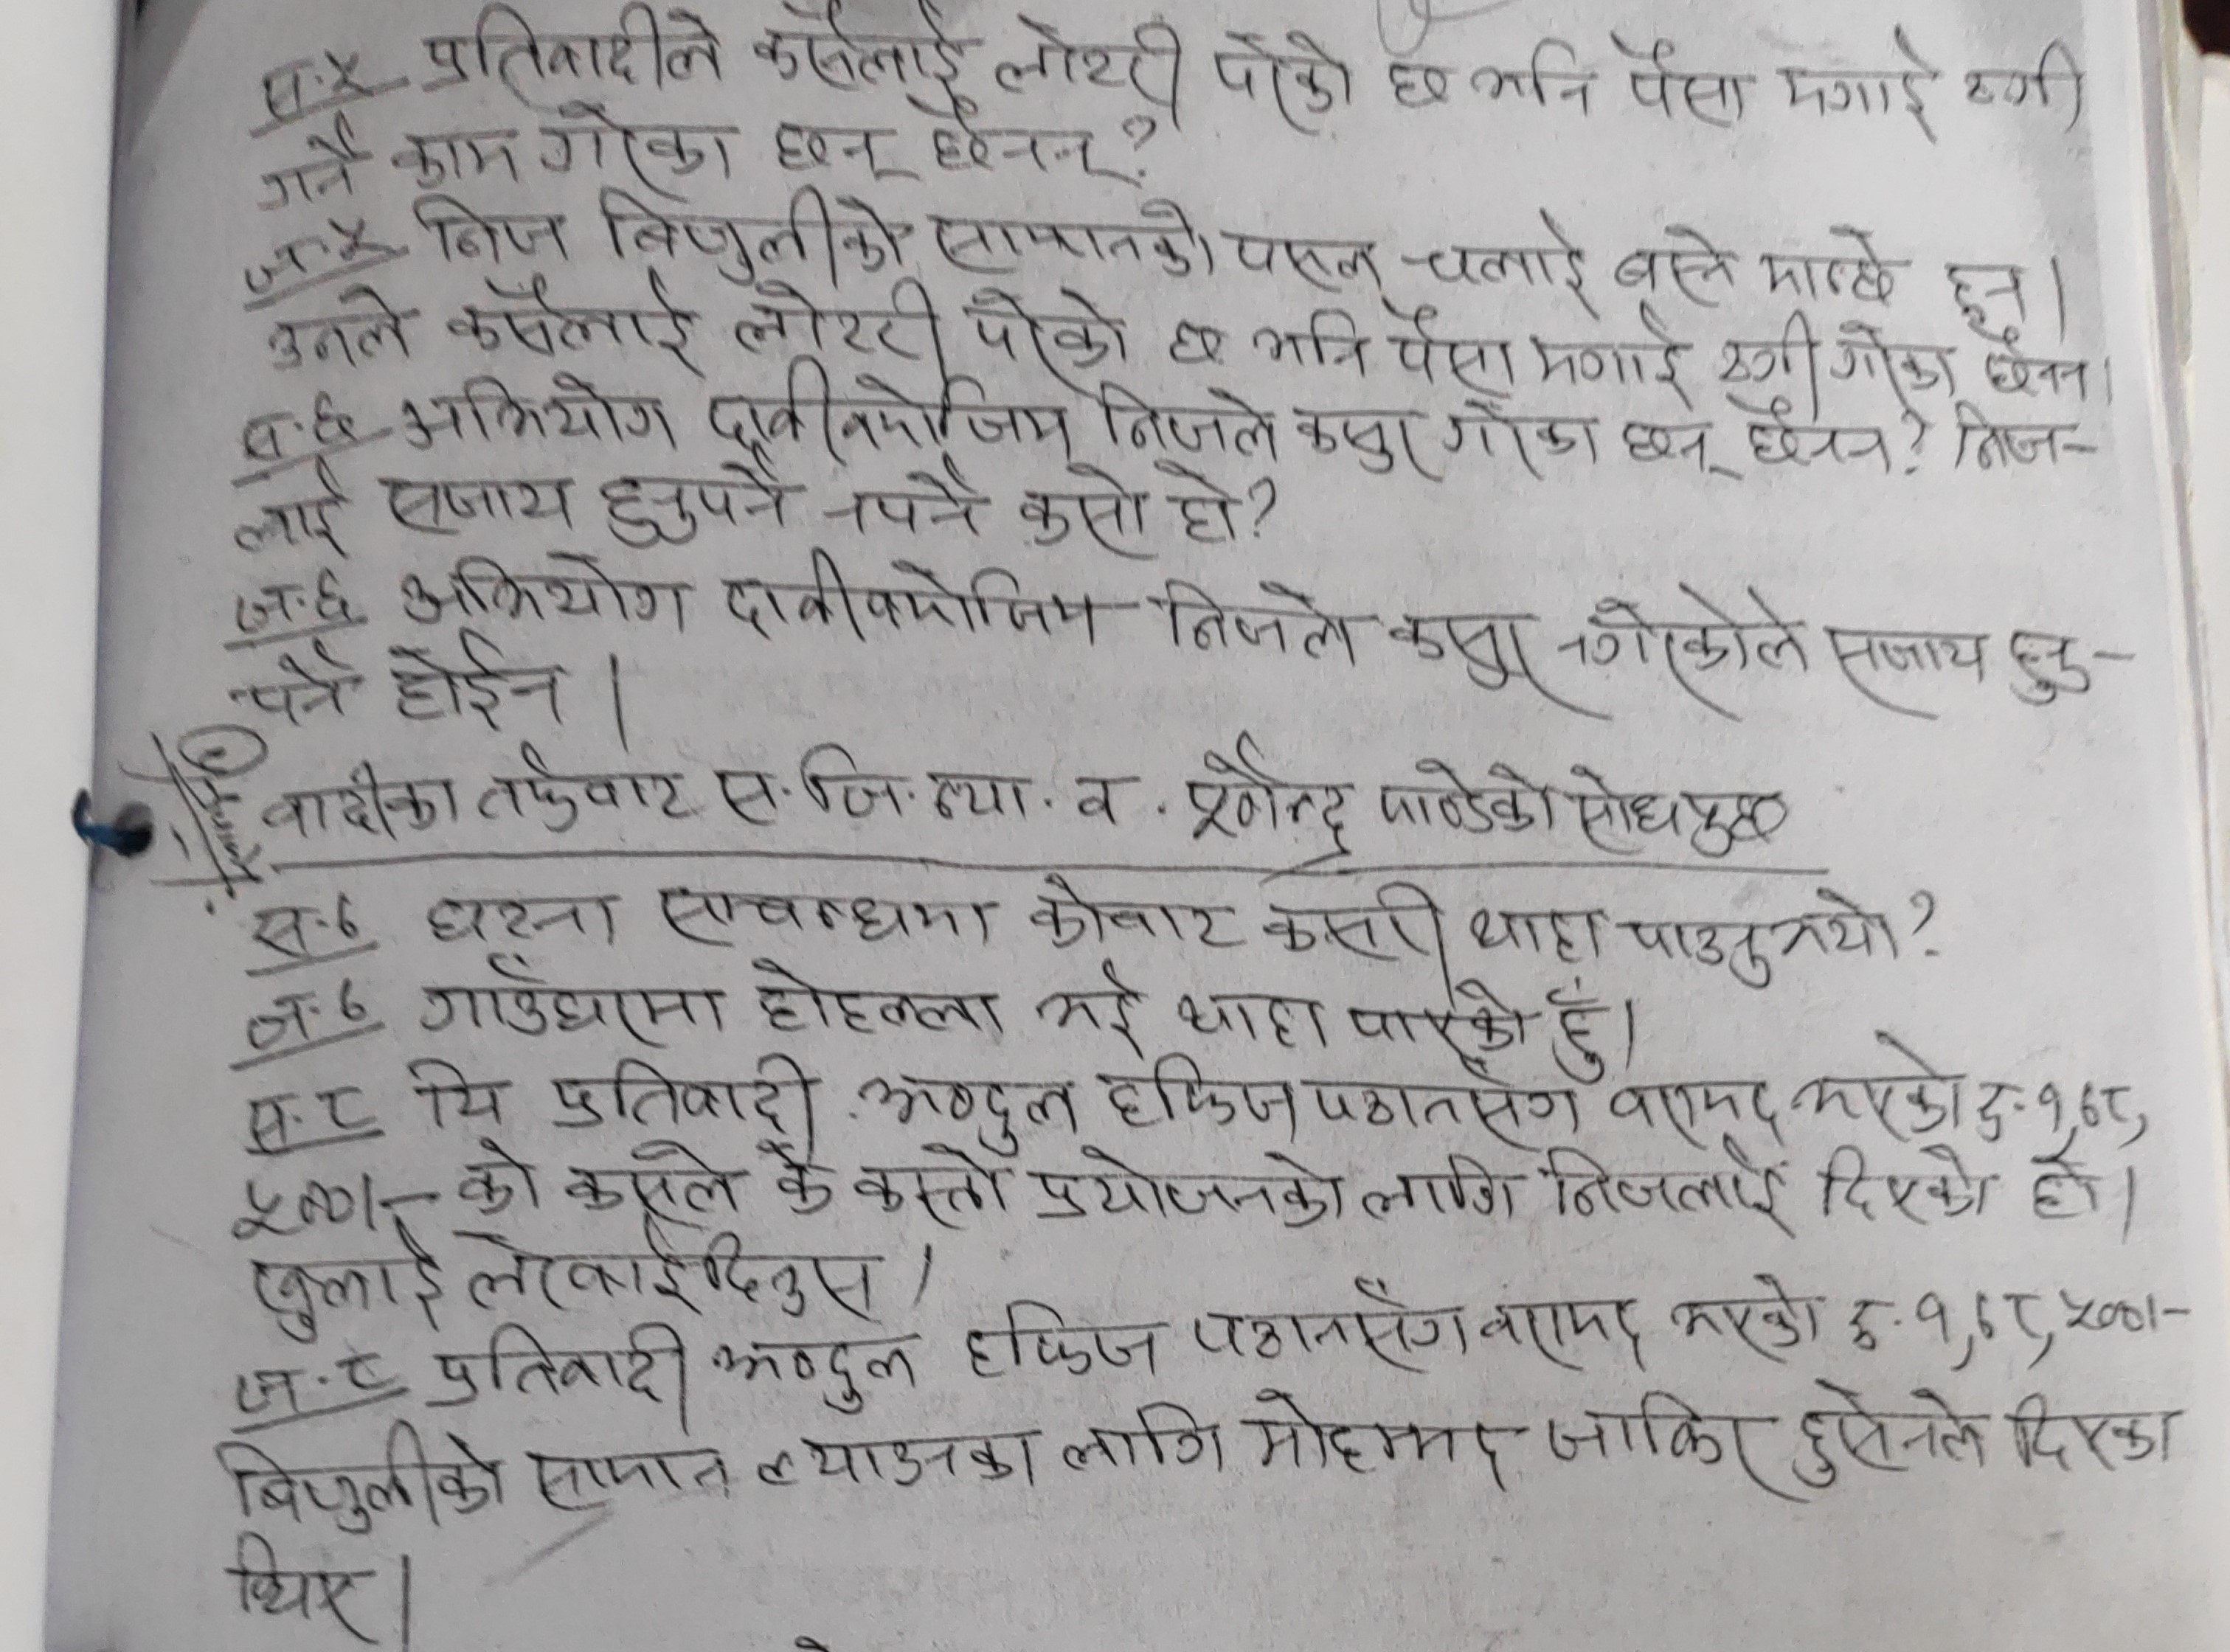text: (708, 731, 1133, 836), (453, 1223, 885, 1322), (717, 541, 1107, 644), (703, 351, 1076, 453), (205, 1421, 512, 1531), (1234, 1378, 1512, 1494), (1555, 578, 1815, 701), (1614, 880, 1904, 989), (587, 187, 911, 283), (413, 2, 727, 99), (410, 958, 725, 1050), (394, 540, 701, 633), (1841, 1268, 2148, 1362), (1187, 1274, 1472, 1374), (1034, 1147, 1348, 1237), (927, 189, 1223, 285), (741, 946, 1008, 1050), (425, 1321, 687, 1423), (1305, 1052, 1584, 1145), (748, 1416, 1048, 1503), (644, 875, 996, 947), (1541, 1385, 1772, 1496), (1536, 1133, 1786, 1234), (439, 265, 692, 363), (243, 1229, 448, 1345), (543, 1043, 814, 1130), (1784, 1374, 1985, 1491), (474, 734, 699, 836), (1177, 734, 1359, 855), (1562, 760, 1784, 859), (377, 626, 580, 734), (1147, 569, 1359, 672), (918, 83, 1112, 194), (854, 1060, 1083, 1154), (1256, 871, 1453, 980), (399, 373, 673, 449), (748, 5, 975, 97), (600, 446, 809, 543), (956, 1295, 1163, 1390), (1777, 29, 1940, 149), (540, 95, 739, 193), (989, 10, 1194, 104), (1793, 1026, 1968, 1135), (712, 1322, 920, 1414), (1807, 1133, 1994, 1234), (1413, 212, 1598, 312), (1102, 1043, 1300, 1137), (729, 276, 948, 359), (1820, 611, 1989, 718), (229, 1522, 368, 1652), (1029, 873, 1241, 958), (1381, 597, 1545, 706), (557, 1128, 739, 1223), (1338, 970, 1531, 1060), (1086, 371, 1284, 458), (1525, 302, 1685, 406), (1371, 753, 1560, 840), (259, 762, 462, 840), (2003, 1388, 2181, 1477), (522, 1439, 739, 1511), (1211, 23, 1361, 128), (1059, 1395, 1230, 1485), (850, 1144, 1015, 1237), (965, 281, 1130, 373), (1664, 1265, 1826, 1359), (1605, 24, 1748, 130), (1437, 389, 1610, 474), (382, 467, 578, 541), (1473, 1288, 1649, 1371), (1220, 212, 1378, 300), (1019, 458, 1147, 566), (1354, 1145, 1522, 1225), (1737, 392, 1893, 477), (821, 462, 989, 538), (422, 890, 620, 954), (411, 187, 566, 269), (264, 288, 413, 371), (1291, 392, 1432, 479), (1170, 989, 1331, 1062), (1758, 222, 1897, 305), (229, 467, 354, 559), (1472, 29, 1590, 127), (1964, 40, 2091, 130), (1248, 305, 1381, 390), (1387, 314, 1520, 399), (224, 1163, 357, 1248), (1598, 1072, 1782, 1133), (252, 123, 370, 217), (1831, 312, 1959, 396), (771, 108, 901, 189), (1612, 222, 1739, 305), (1977, 319, 2095, 406), (1029, 954, 1144, 1043), (385, 123, 531, 191), (1945, 396, 2070, 474), (1466, 901, 1614, 967), (1713, 300, 1820, 390), (1612, 411, 1739, 488), (245, 646, 354, 731), (1999, 614, 2093, 708), (1158, 453, 1243, 552), (453, 1131, 541, 1223), (403, 1055, 505, 1131), (760, 1128, 833, 1227), (1545, 986, 1616, 1086), (1940, 248, 2034, 324), (2017, 1149, 2105, 1227), (2034, 1079, 2141, 1133), (1378, 50, 1454, 123), (1156, 309, 1234, 371)
